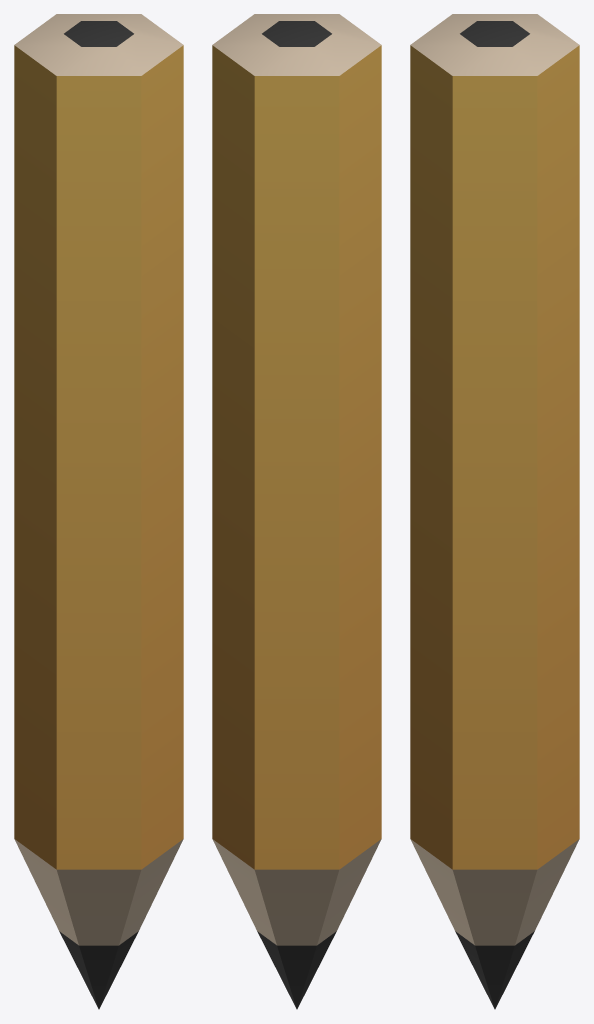
Rendered from prop-brush.glb.
3 renders of one model, left to right at view 1: azimuth 30°, elevation 25°; view 2: azimuth 150°, elevation 25°; view 3: azimuth 270°, elevation 25°, orthographic.
Parts seen in each view (by area): view 1: pencil_A_long; view 2: pencil_A_long; view 3: pencil_A_long.
Part boxes in pixels (x1=…): pencil_A_long: x1=14, y1=14, x2=183, y2=1009; pencil_A_long: x1=212, y1=14, x2=381, y2=1009; pencil_A_long: x1=410, y1=14, x2=579, y2=1009.
Bounding box in the file's own units: 0.0861 × 0.6312 × 0.0994.
Materials: 1 (1 with a texture image).
